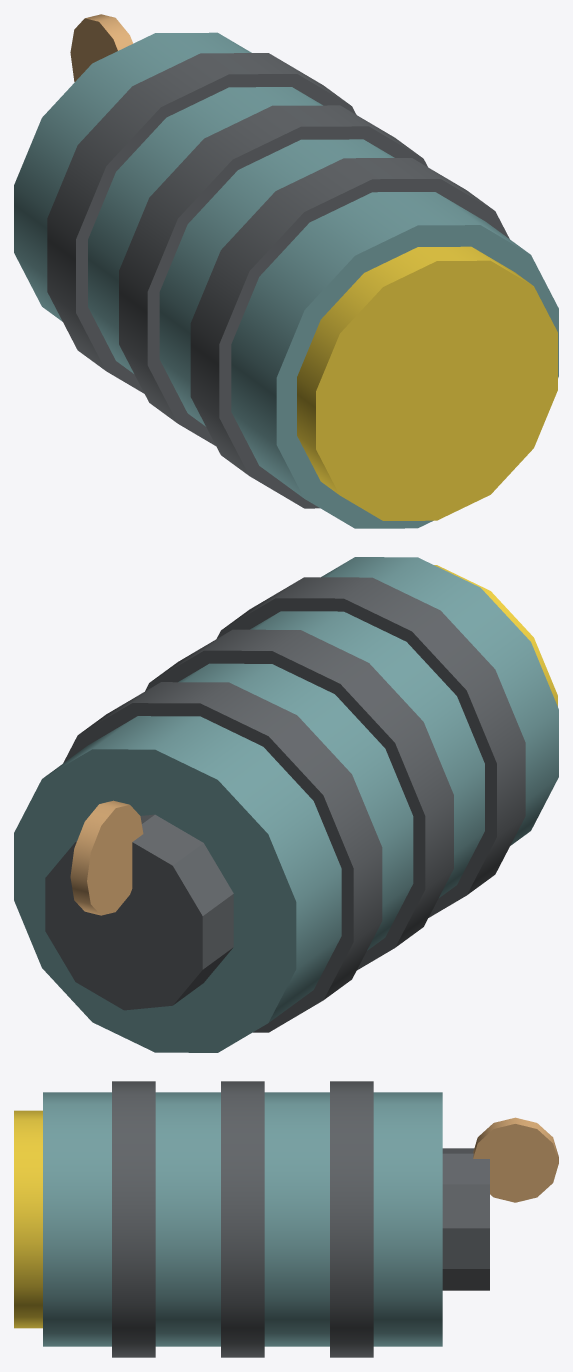
Rendered from weapon_frag_charge.glb.
3 renders of one model, top to bottom at view 1: azimuth 30°, elevation 25°; view 2: azimuth 150°, elevation 25°; view 3: azimuth 270°, elevation 25°, orthographic. The views are drawn at different scales.
Visible parts, largest first — view 1: weapon_frag_charge; view 2: weapon_frag_charge; view 3: weapon_frag_charge.
Part boxes in pixels (x1,y1,x2,y2): weapon_frag_charge: (14, 14, 558, 528); weapon_frag_charge: (14, 557, 558, 1052); weapon_frag_charge: (14, 1081, 558, 1357).
Size of the model in its own units: 0.0741 by 0.076 by 0.15.
